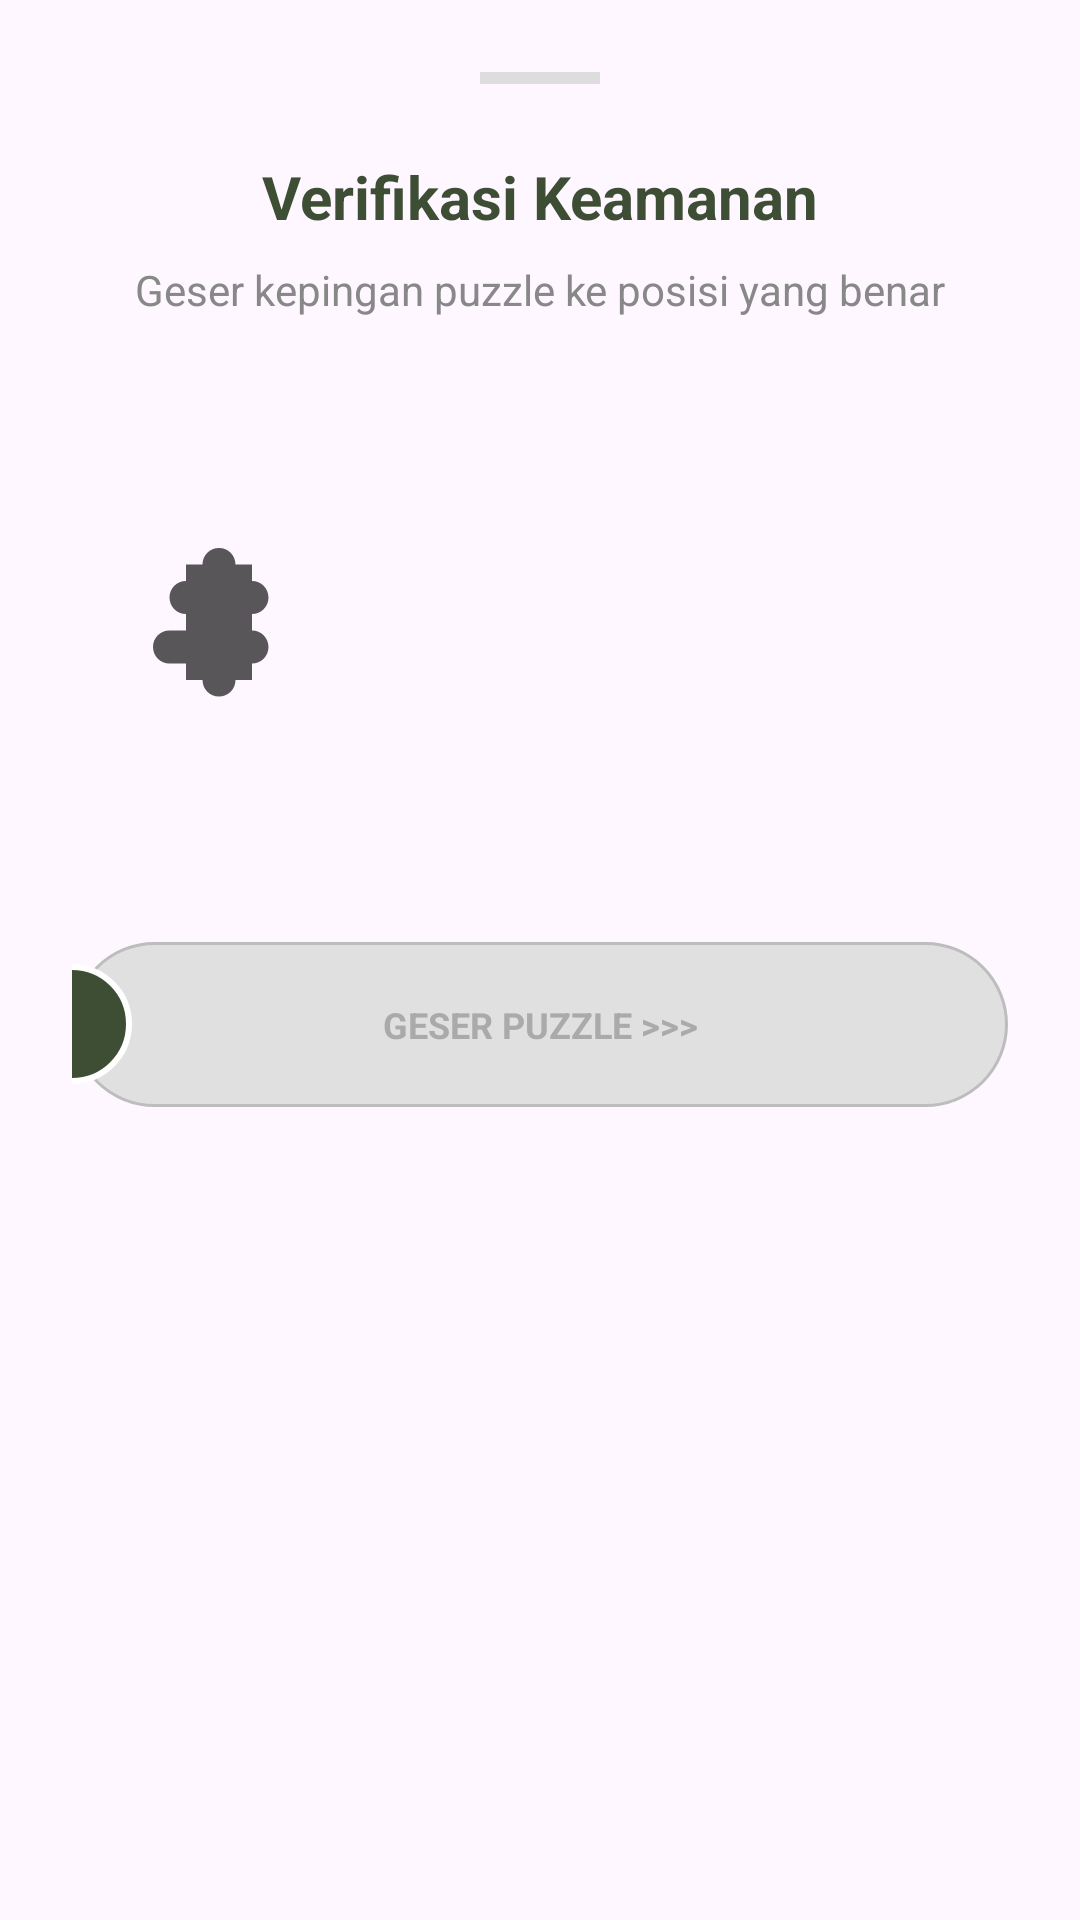

Icon click points for this 1080*1920 phone screenshot, format [x,y]:
puzzle piece: [211,622]
